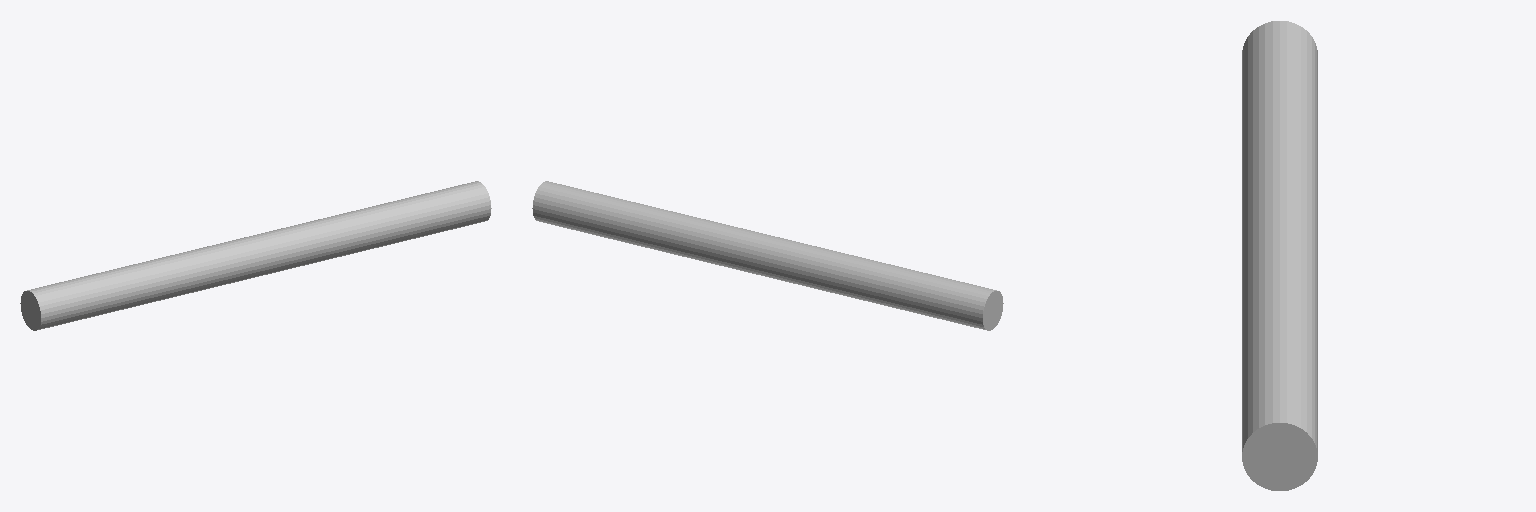
robot.urdf — rod:
<?xml version="1.0" encoding="utf-8"?>
<robot name="rod">
  <link name="rod_Link">
    <inertial>
      <origin xyz="0 0 0" rpy="0 0 0"/>
      <mass value="0.8"/>
      <inertia ixx="0.001" iyy="0.001" izz="0.0005" ixy="0" ixz="0" iyz="0"/>
    </inertial>
    <visual>
      <origin xyz="0 0 0" rpy="0 -1.57 0"/>
      <geometry><cylinder length="0.8" radius="0.032"/></geometry>
      <material name="gray"><color rgba="0.8 0.8 0.8 1"/></material>
    </visual>
    <collision>
      <origin xyz="0 0 0" rpy="0 -1.57 0"/>
      <geometry><cylinder length="0.8" radius="0.032"/></geometry>
    </collision>
  </link>
</robot>

--- Facts derived from the render (not from the file) ---
3 views of the same robot in one strip: view 1: azimuth 30°, elevation 25°; view 2: azimuth 150°, elevation 25°; view 3: azimuth 270°, elevation 25° (orthographic).
Model rod with 1 links and 0 joints (none), rooted at rod_Link, posed every joint at zero.
Links seen in each view (by area): view 1: rod_Link; view 2: rod_Link; view 3: rod_Link.
Link boxes in pixels (x1,y1,x2,y2): rod_Link: (20, 181, 491, 330); rod_Link: (532, 181, 1003, 330); rod_Link: (1242, 21, 1317, 490).
Bounding box of the posed robot: 0.8001 × 0.064 × 0.0646 m (x, y, z).
Geometry: primitives only (box / cylinder / sphere), no mesh files.
